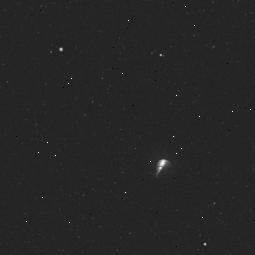debris: (146, 155, 179, 184)
